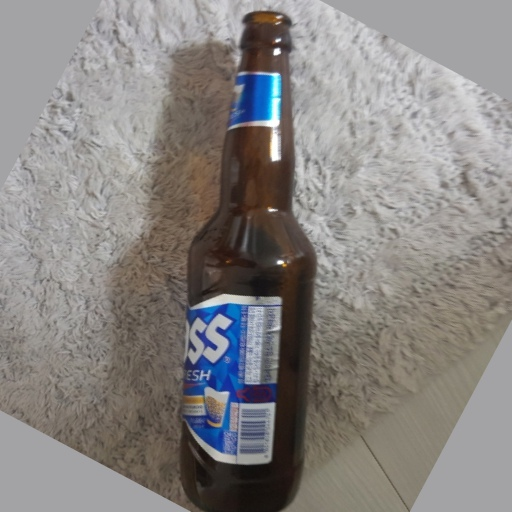Glass_1: (180, 10, 318, 512)
